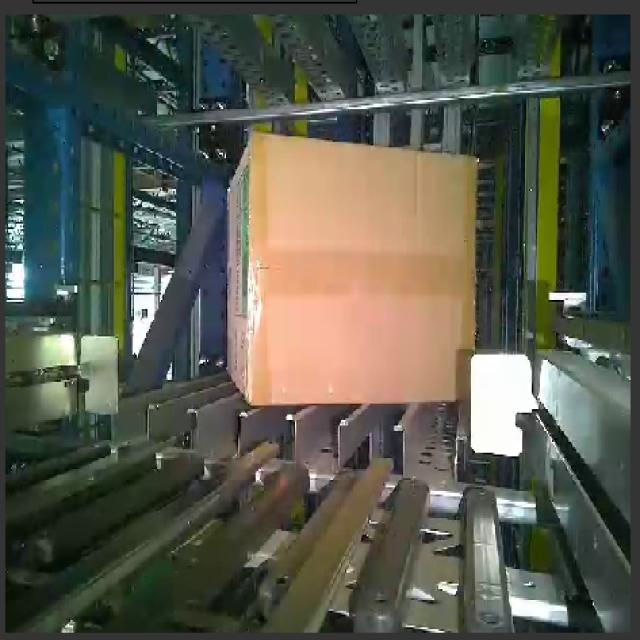box: (249, 132, 478, 410)
